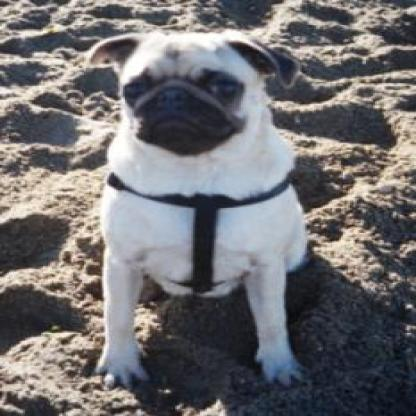pug: (78, 26, 309, 387)
